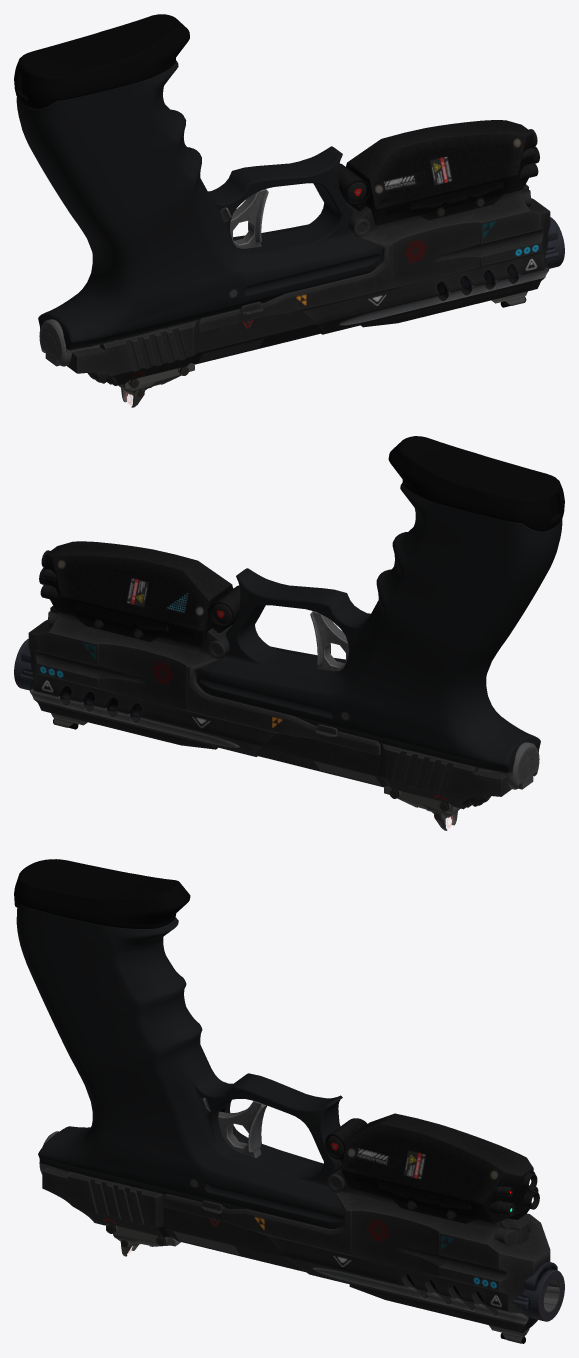
Rendered from pistol.glb.
3 views of the same model, one above another, from view 1: azimuth 30°, elevation 25°; view 2: azimuth 150°, elevation 25°; view 3: azimuth 330°, elevation 25° (orthographic).
Parts seen in each view (by area): view 1: Object_5; view 2: Object_5; view 3: Object_5.
Part boxes in pixels (bbox=[...]): Object_5: bbox=[14, 14, 564, 407]; Object_5: bbox=[14, 436, 564, 830]; Object_5: bbox=[14, 859, 564, 1343].
Size of the model in its own units: 0.2793 by 0.1893 by 0.0406.
24 materials, 15 textured.
